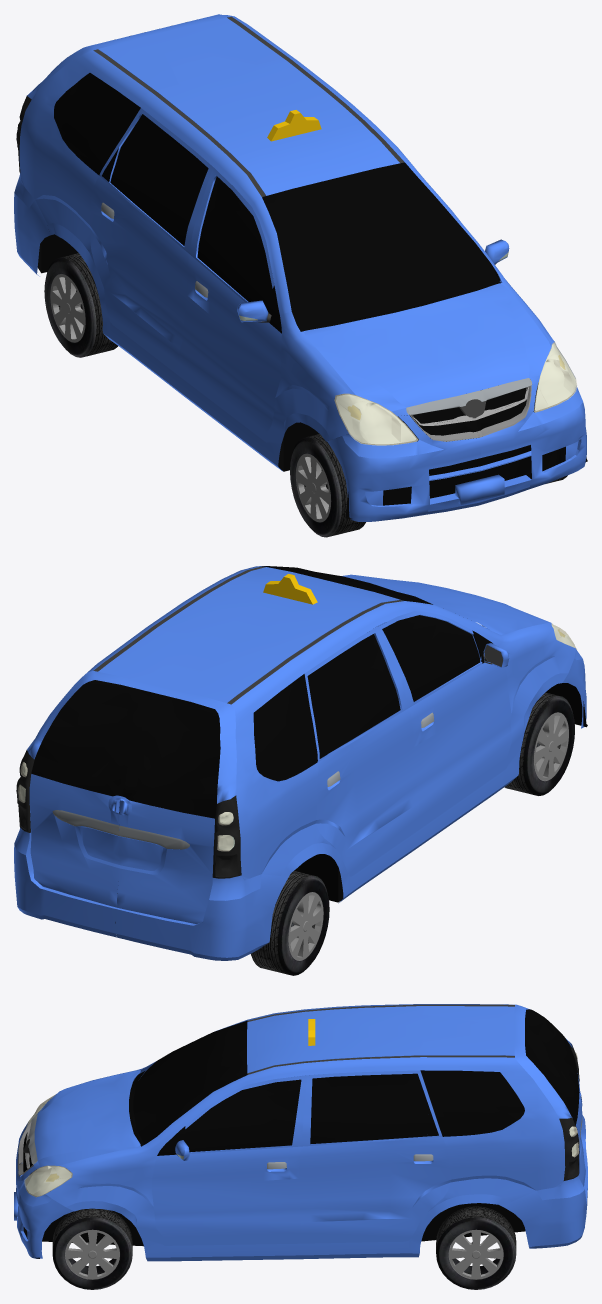
File: xenia-taxi-8ea891.glb
The picture shows the model from 3 angles, top to bottom: view 1: azimuth 30°, elevation 25°; view 2: azimuth 150°, elevation 25°; view 3: azimuth 270°, elevation 25°; orthographic projection. The views are drawn at different scales.
Visible parts, largest first — view 1: body, wheel-back-right, wheel-front-right; view 2: body, wheel-back-right, wheel-front-right; view 3: body, wheel-front-left, wheel-back-left.
Boxes of the visible parts, left/top/right/bottom form: body: left=14, top=14, right=587, bottom=532; wheel-back-right: left=44, top=254, right=108, bottom=357; wheel-front-right: left=290, top=434, right=353, bottom=537; body: left=14, top=566, right=587, bottom=970; wheel-back-right: left=263, top=872, right=329, bottom=975; wheel-front-right: left=512, top=692, right=574, bottom=795; body: left=14, top=1004, right=587, bottom=1274; wheel-front-left: left=52, top=1211, right=132, bottom=1289; wheel-back-left: left=436, top=1211, right=516, bottom=1289.
Bounding box in the file's own units: 2.01 × 2.06 × 4.72.
Materials: 19 (2 with a texture image).
